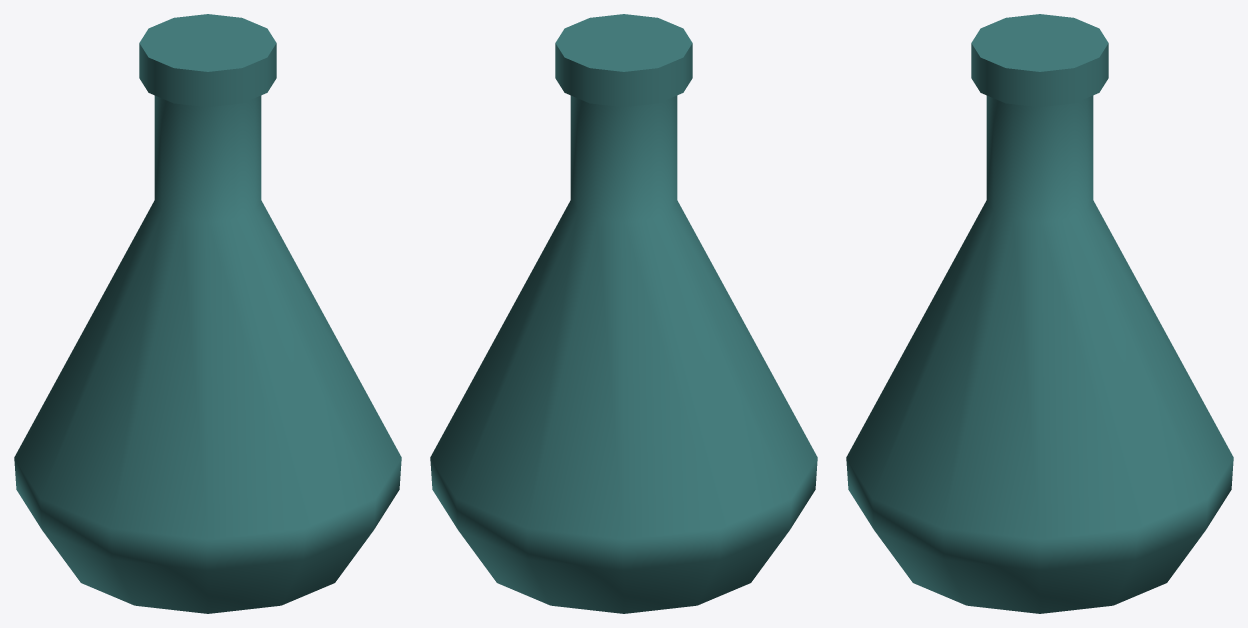
File: Blub2.fbx
The picture shows the model from 3 angles, left to right: view 1: azimuth 30°, elevation 25°; view 2: azimuth 150°, elevation 25°; view 3: azimuth 270°, elevation 25°; orthographic projection.
Visible parts, largest first — view 1: pCone3; view 2: pCone3; view 3: pCone3.
Part boxes in pixels (x1=…): pCone3: x1=14, y1=14, x2=401, y2=613; pCone3: x1=430, y1=14, x2=817, y2=613; pCone3: x1=846, y1=14, x2=1233, y2=613.
Size of the model in its own units: 11.06 by 11.06 by 16.03.
